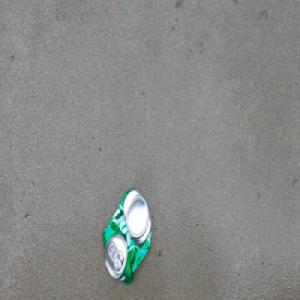SodaCan: (100, 185, 152, 285)
